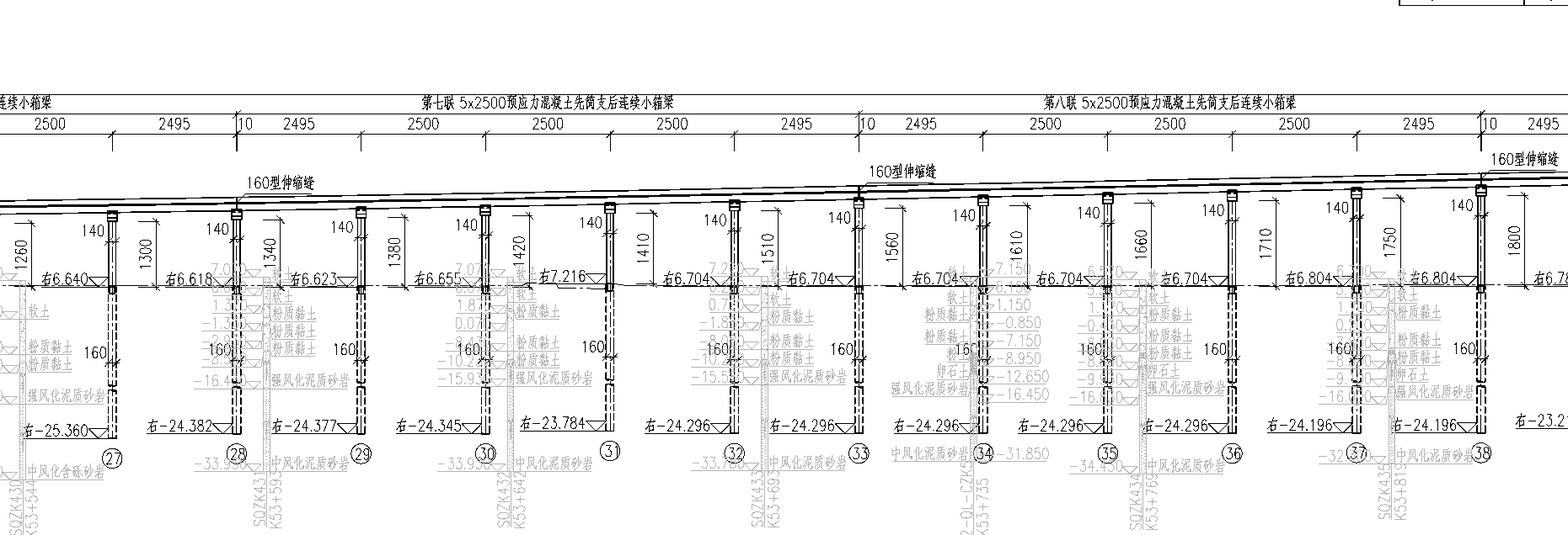B: (858, 85, 1490, 129)
C: (1272, 182, 1378, 467), (1025, 188, 1129, 469), (900, 189, 1004, 468), (650, 193, 755, 467), (1404, 179, 1502, 469), (779, 193, 880, 469), (1156, 185, 1254, 469), (154, 204, 259, 468), (404, 199, 506, 468), (283, 200, 383, 469), (33, 205, 131, 474), (538, 197, 629, 465)
